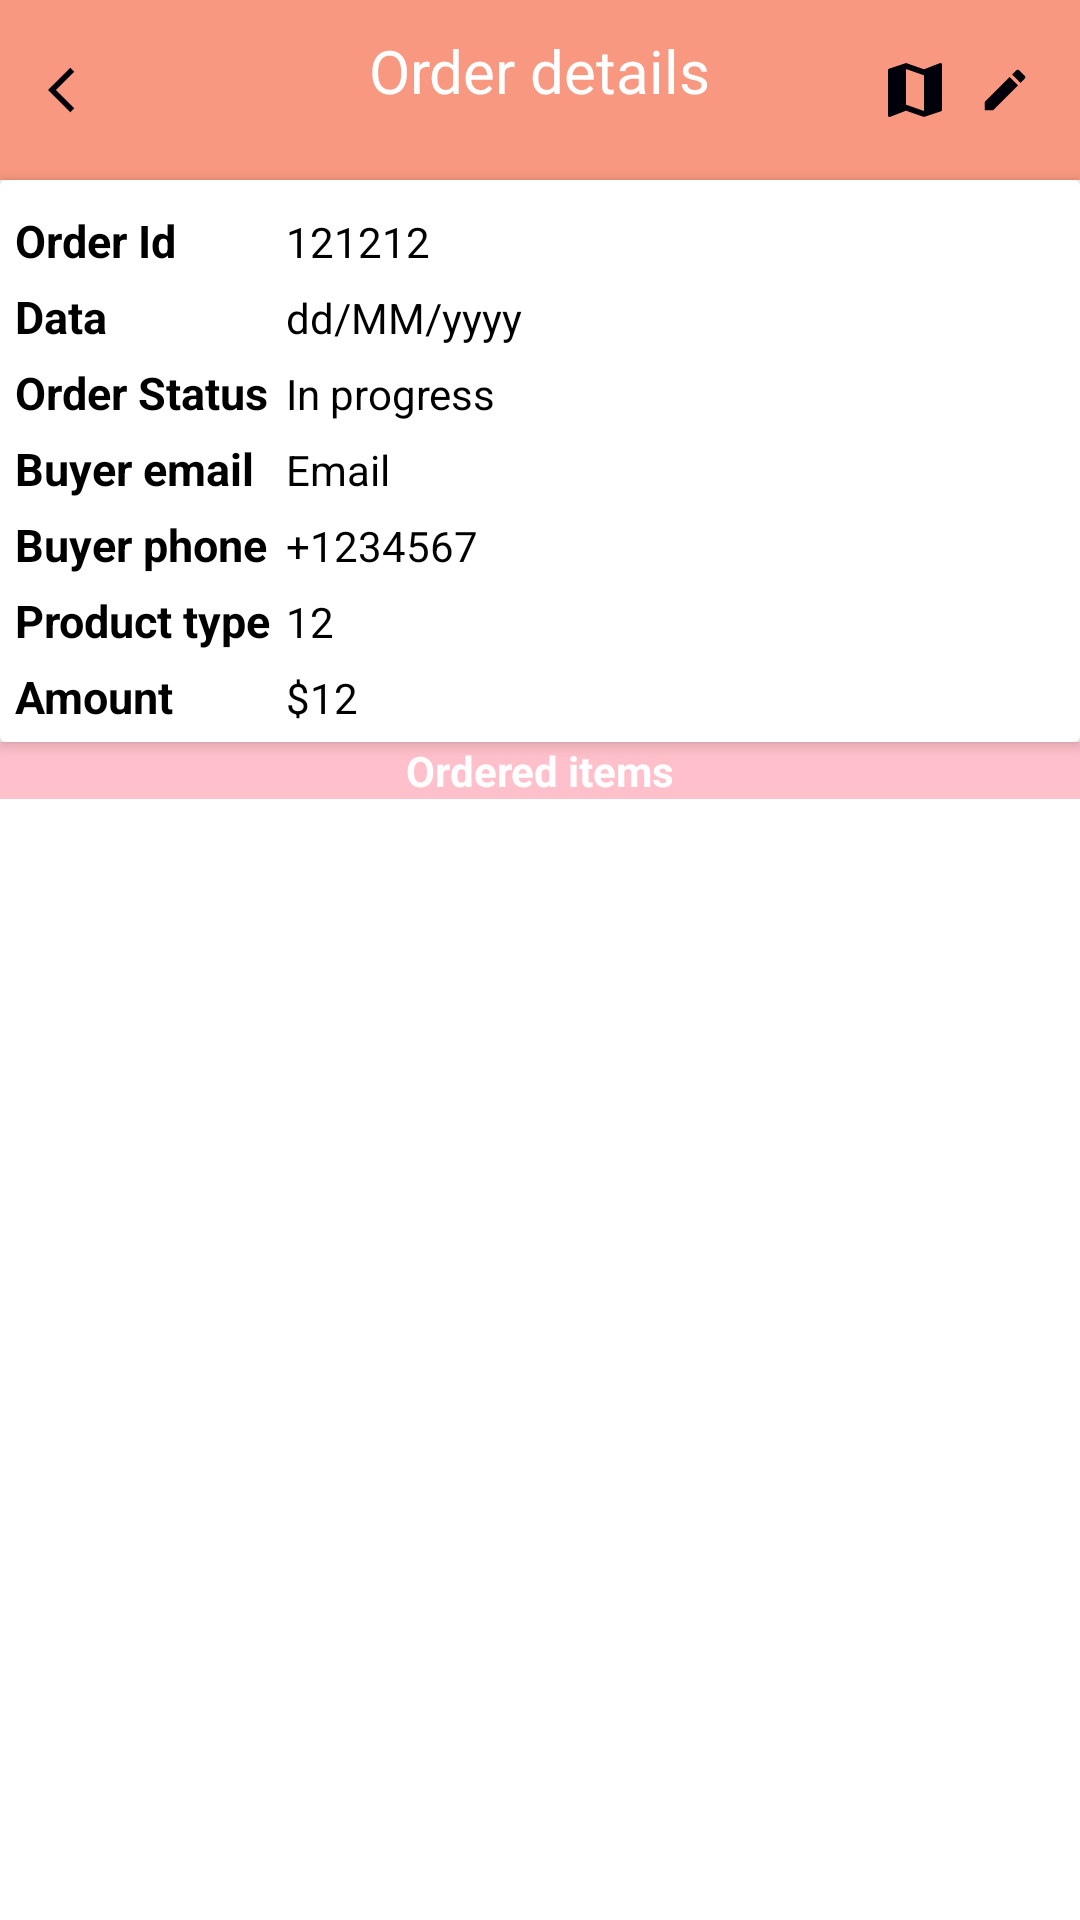

Icon bounding boxes for this 1080w x 1920h phone screenshot, format BBox(x1, y1, x2, y2):
back: BBox(48, 68, 74, 112)
basiline map: BBox(888, 63, 942, 117)
editprofile: BBox(984, 69, 1026, 111)
